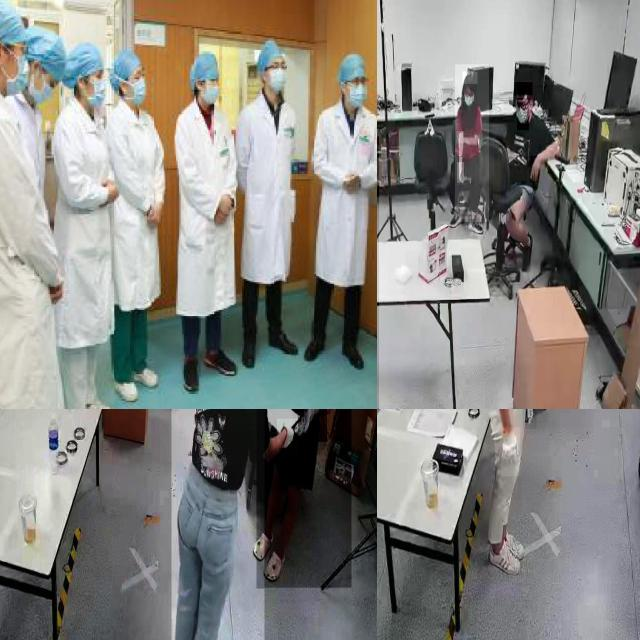face_mask: (0, 54, 33, 96), (262, 58, 290, 96), (81, 65, 110, 101), (30, 70, 59, 105), (124, 67, 151, 104), (342, 73, 372, 104), (199, 72, 225, 105), (461, 86, 477, 116), (517, 98, 529, 130)
hand_glove: (501, 427, 521, 477), (298, 409, 327, 442), (277, 419, 299, 458), (522, 409, 537, 430)
hand_noglove: (50, 267, 67, 305), (148, 202, 164, 227), (104, 180, 119, 203), (347, 170, 361, 194), (530, 156, 540, 183), (221, 193, 233, 215), (214, 207, 227, 225), (457, 162, 465, 184), (456, 131, 465, 144)
head_nohelmet: (514, 82, 533, 96), (462, 71, 478, 85)
person: (0, 0, 70, 409), (49, 34, 122, 409), (176, 47, 241, 393), (171, 409, 264, 640), (314, 50, 377, 377), (110, 44, 167, 405), (244, 39, 304, 370), (256, 409, 351, 588), (500, 85, 563, 275), (485, 409, 549, 584), (455, 64, 489, 222)
shoes: (175, 351, 208, 393), (265, 327, 301, 365), (200, 344, 240, 378), (488, 538, 522, 576), (338, 335, 370, 373), (128, 358, 164, 391), (497, 518, 523, 563), (111, 373, 144, 408), (301, 328, 327, 364), (240, 330, 260, 376), (71, 391, 119, 409), (516, 230, 535, 275), (468, 210, 484, 235), (449, 207, 462, 230)
